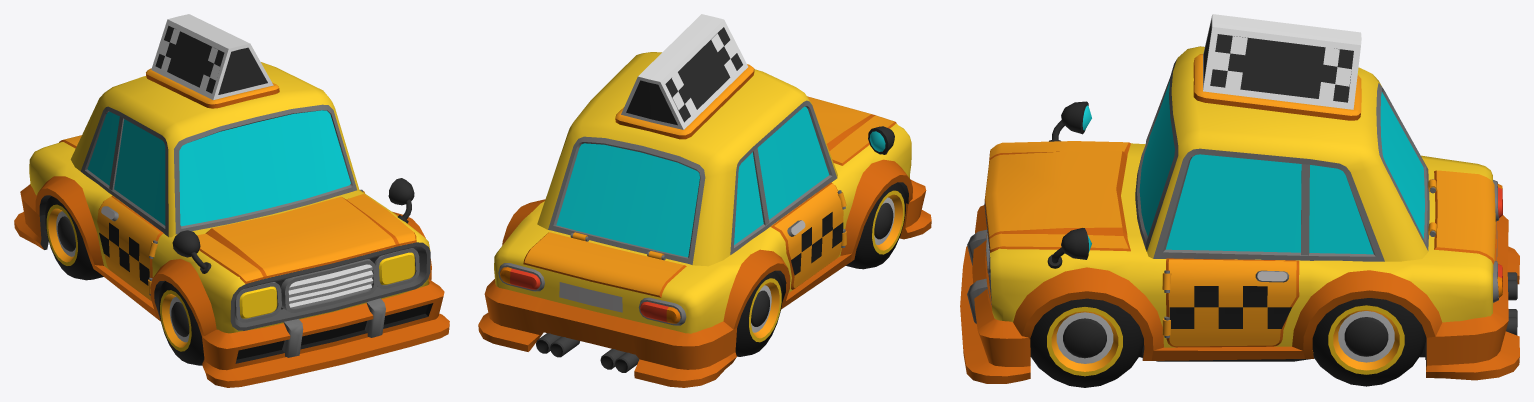
Rendered from VEH12-A.fbx.
The picture shows the model from 3 angles, left to right: view 1: azimuth 30°, elevation 25°; view 2: azimuth 150°, elevation 25°; view 3: azimuth 270°, elevation 25°; orthographic projection. The views are drawn at different scales.
Visible parts, largest first — view 1: VEH12_A, V12A_Wheel_BR, V12A_Wheel_FR; view 2: VEH12_A, V12A_Wheel_FR, V12A_Wheel_BR; view 3: VEH12_A, V12A_Wheel_FL, V12A_Wheel_BL.
Boxes of the visible parts, x1=… form: VEH12_A: x1=14, y1=14, x2=449, y2=387; V12A_Wheel_BR: x1=45, y1=196, x2=103, y2=280; V12A_Wheel_FR: x1=159, y1=281, x2=204, y2=365; VEH12_A: x1=478, y1=14, x2=931, y2=387; V12A_Wheel_FR: x1=846, y1=182, x2=905, y2=269; V12A_Wheel_BR: x1=735, y1=271, x2=782, y2=356; VEH12_A: x1=960, y1=14, x2=1519, y2=383; V12A_Wheel_FL: x1=1030, y1=298, x2=1143, y2=387; V12A_Wheel_BL: x1=1312, y1=298, x2=1425, y2=386.
Size of the model in its own units: 249 by 249 by 411.
Materials: 1 (1 with a texture image).
